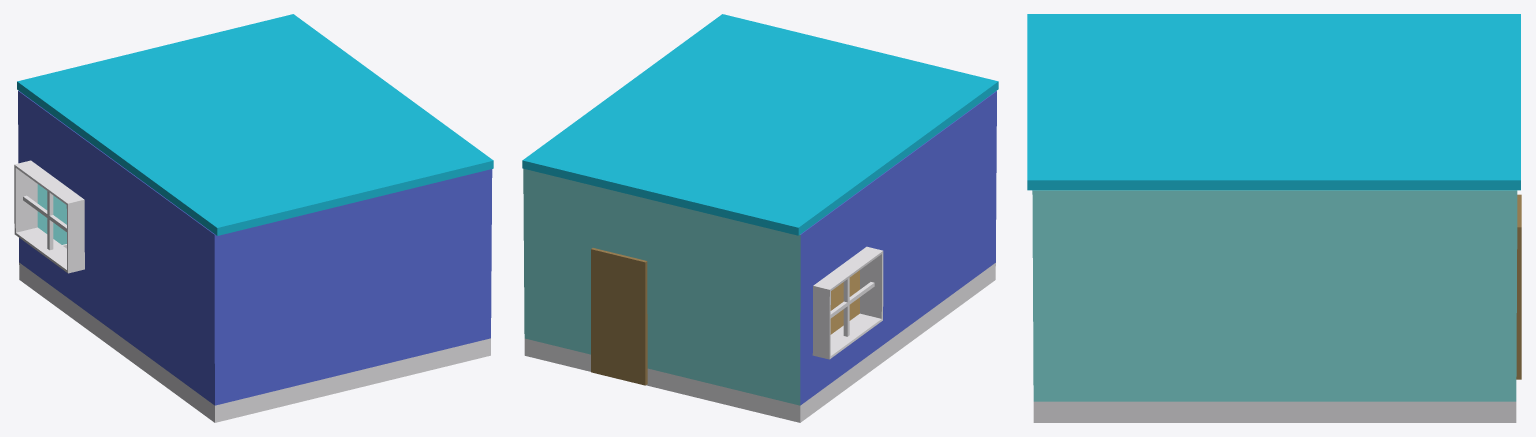
File: Room.fbx
The picture shows the model from 3 angles, left to right: view 1: azimuth 30°, elevation 25°; view 2: azimuth 150°, elevation 25°; view 3: azimuth 270°, elevation 25°; orthographic projection. The views are drawn at different scales.
Visible parts, largest first — view 1: Room, TOP; view 2: Room, TOP, Door; view 3: Room, TOP, Door.
Part boxes in pixels (left/top/right/bottom): Room: left=14, top=90, right=492, bottom=422; TOP: left=17, top=14, right=493, bottom=235; Room: left=523, top=91, right=996, bottom=422; TOP: left=522, top=14, right=998, bottom=235; Door: left=591, top=248, right=647, bottom=385; Room: left=1032, top=190, right=1517, bottom=422; TOP: left=1027, top=14, right=1520, bottom=190; Door: left=1516, top=194, right=1521, bottom=379.
Size of the model in its own units: 652 by 417 by 770.
